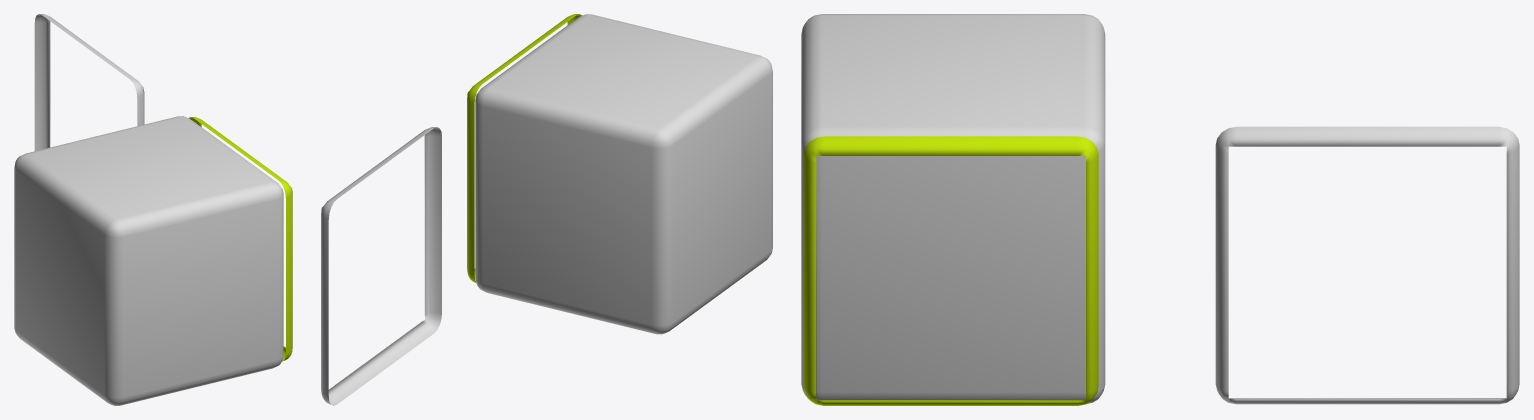
The model's file is CubeWithBorders2.fbx.
The picture shows the model from 3 angles, left to right: view 1: azimuth 30°, elevation 25°; view 2: azimuth 150°, elevation 25°; view 3: azimuth 270°, elevation 25°; orthographic projection. The views are drawn at different scales.
Parts seen in each view (by area): view 1: Cube, border2, border2.001; view 2: Cube, border2, border2.001; view 3: Cube, border2, border2.001.
Boxes of the visible parts, x1=… form: Cube: x1=14, y1=116, x2=283, y2=405; border2: x1=34, y1=14, x2=144, y2=150; border2.001: x1=189, y1=117, x2=292, y2=361; Cube: x1=475, y1=14, x2=772, y2=334; border2: x1=321, y1=127, x2=441, y2=405; border2.001: x1=467, y1=14, x2=581, y2=282; Cube: x1=801, y1=14, x2=1105, y2=403; border2: x1=1215, y1=126, x2=1519, y2=404; border2.001: x1=803, y1=136, x2=1098, y2=405.
Bounding box in the file's own units: 210 × 200 × 472.
